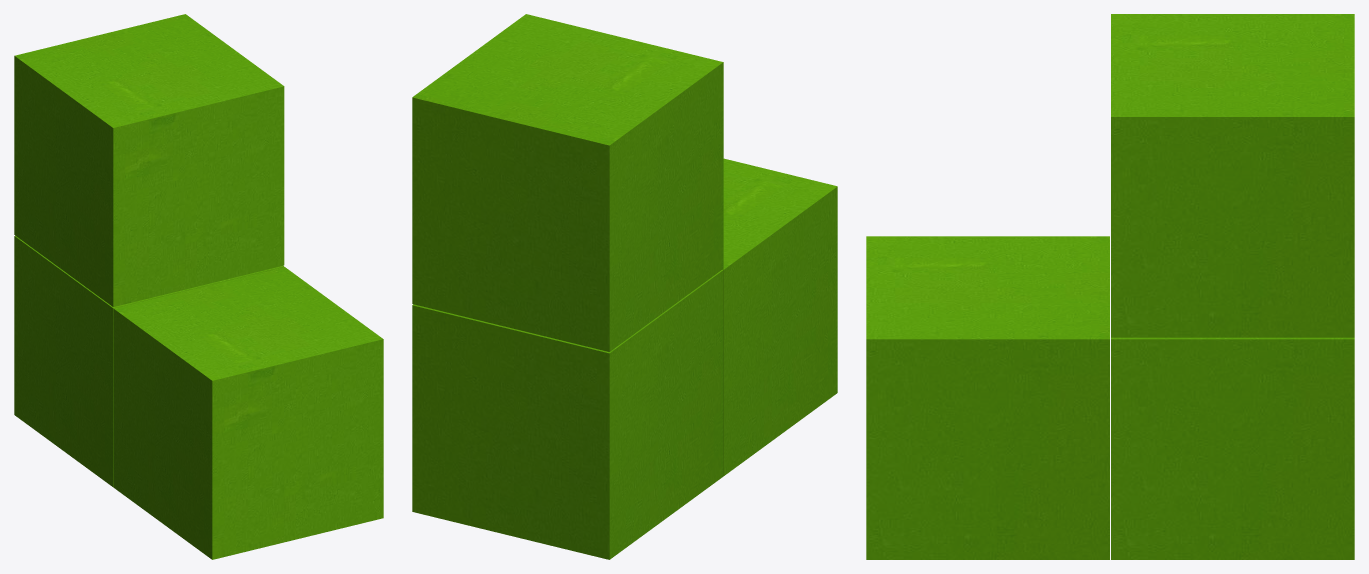
The model's file is green.glb.
3 views of the same model, side by side, from view 1: azimuth 30°, elevation 25°; view 2: azimuth 150°, elevation 25°; view 3: azimuth 270°, elevation 25° (orthographic). The views are drawn at different scales.
Parts seen in each view (by area): view 1: Cube.002; view 2: Cube.002; view 3: Cube.002.
Boxes of the visible parts, box(x1,y1,x2,y2) form: Cube.002: box(14, 14, 383, 559); Cube.002: box(412, 14, 837, 559); Cube.002: box(866, 14, 1354, 559).
Bounding box in the file's own units: 0.06 × 0.1204 × 0.1202.
1 material, 1 textured.
